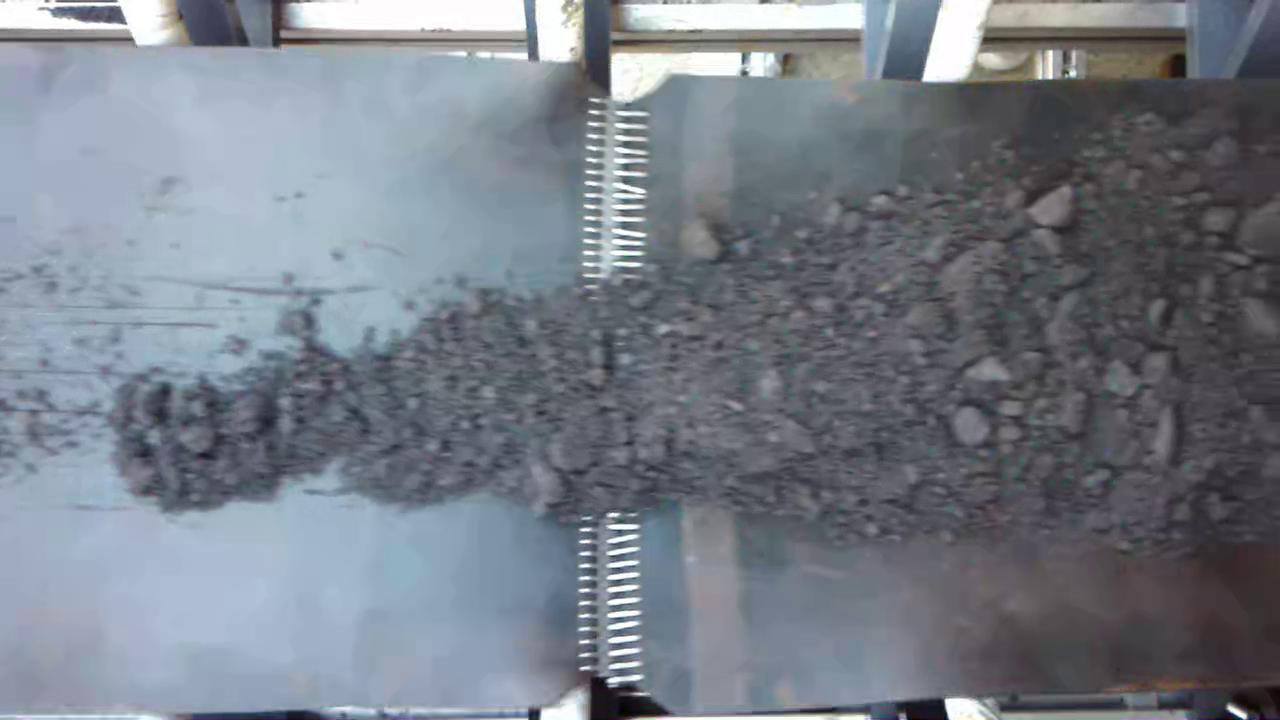conveyor: (23, 94, 1278, 678)
